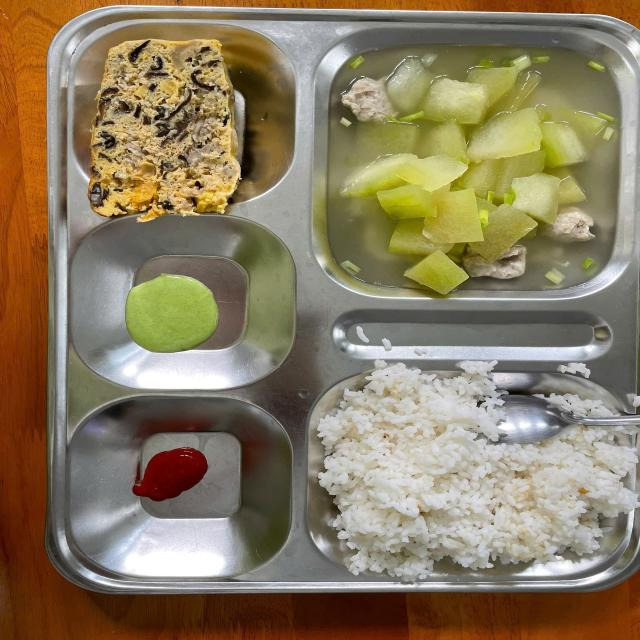canhbau: (332, 48, 614, 293)
chatrung: (85, 35, 261, 216)
salad: (318, 375, 624, 575)
